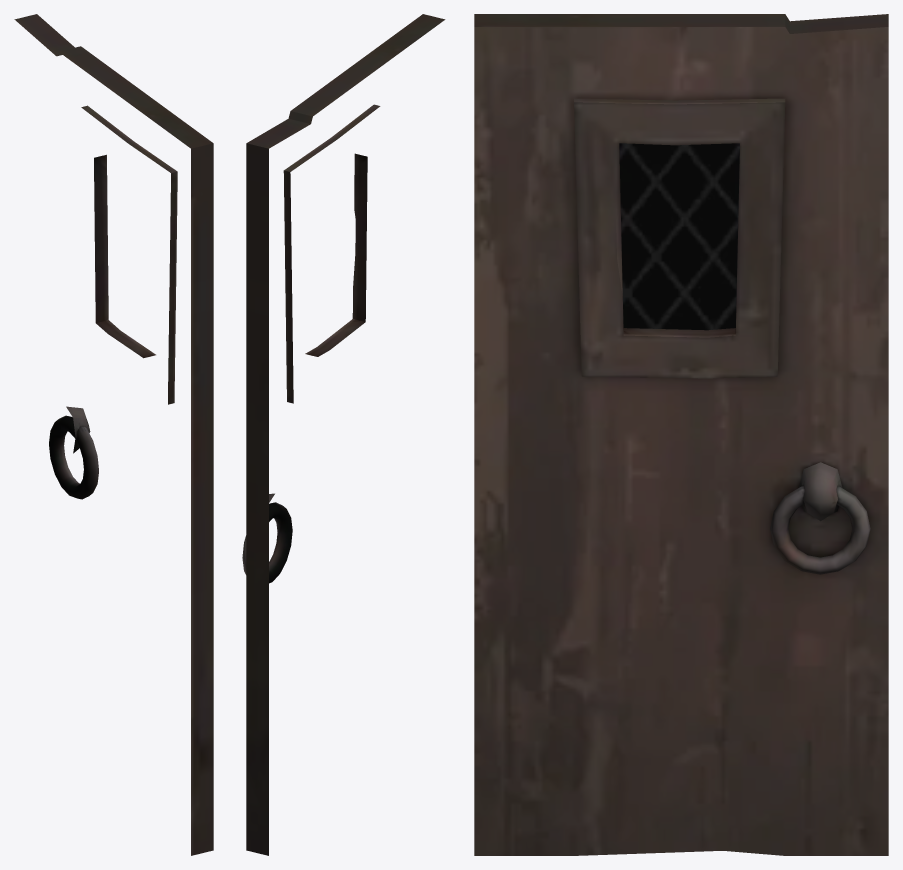
The picture shows the model from 3 angles, left to right: view 1: azimuth 30°, elevation 25°; view 2: azimuth 150°, elevation 25°; view 3: azimuth 270°, elevation 25°; orthographic projection. The views are drawn at different scales.
Parts seen in each view (by area): view 1: body0_model0_lod0_mesh0; view 2: body0_model0_lod0_mesh0; view 3: body0_model0_lod0_mesh0.
Boxes of the visible parts, <box> form: body0_model0_lod0_mesh0: <box>14,14,213,855</box>; body0_model0_lod0_mesh0: <box>242,14,445,855</box>; body0_model0_lod0_mesh0: <box>474,14,888,855</box>.
Bounding box in the file's own units: 7.16 × 106 × 48.18.
Materials: 1 (1 with a texture image).
